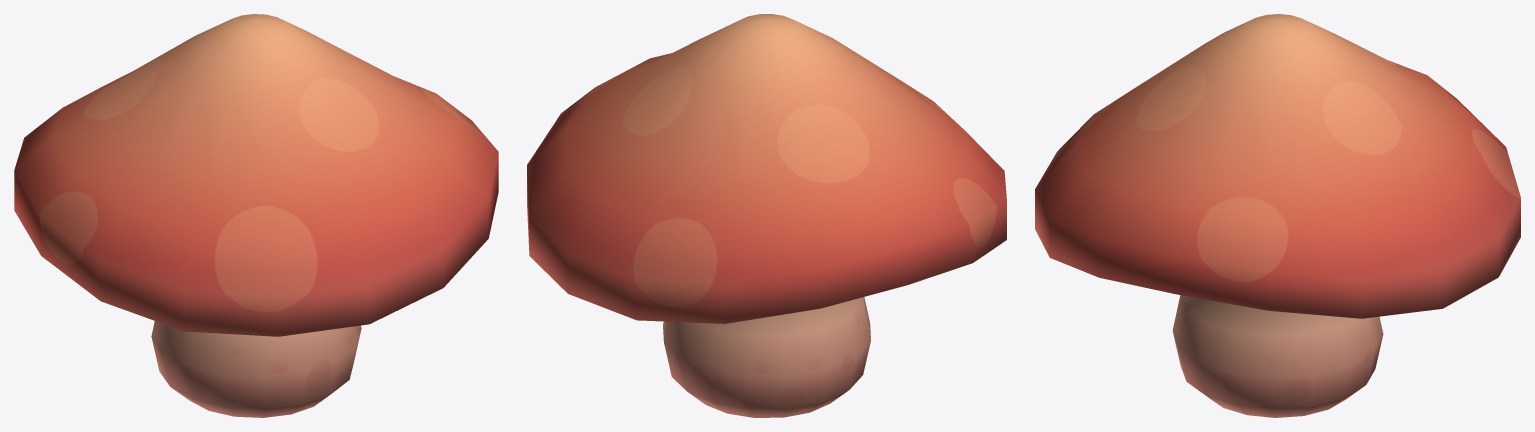
File: Mushroom.FBX
3 views of the same model, side by side, from view 1: azimuth 30°, elevation 25°; view 2: azimuth 150°, elevation 25°; view 3: azimuth 270°, elevation 25° (orthographic).
Parts seen in each view (by area): view 1: Mushroom; view 2: Mushroom; view 3: Mushroom.
Part boxes in pixels (bbox=[...]): Mushroom: bbox=[14, 14, 498, 417]; Mushroom: bbox=[527, 14, 1006, 417]; Mushroom: bbox=[1035, 14, 1520, 417].
Bounding box in the file's own units: 93.67 × 79.32 × 93.67.
